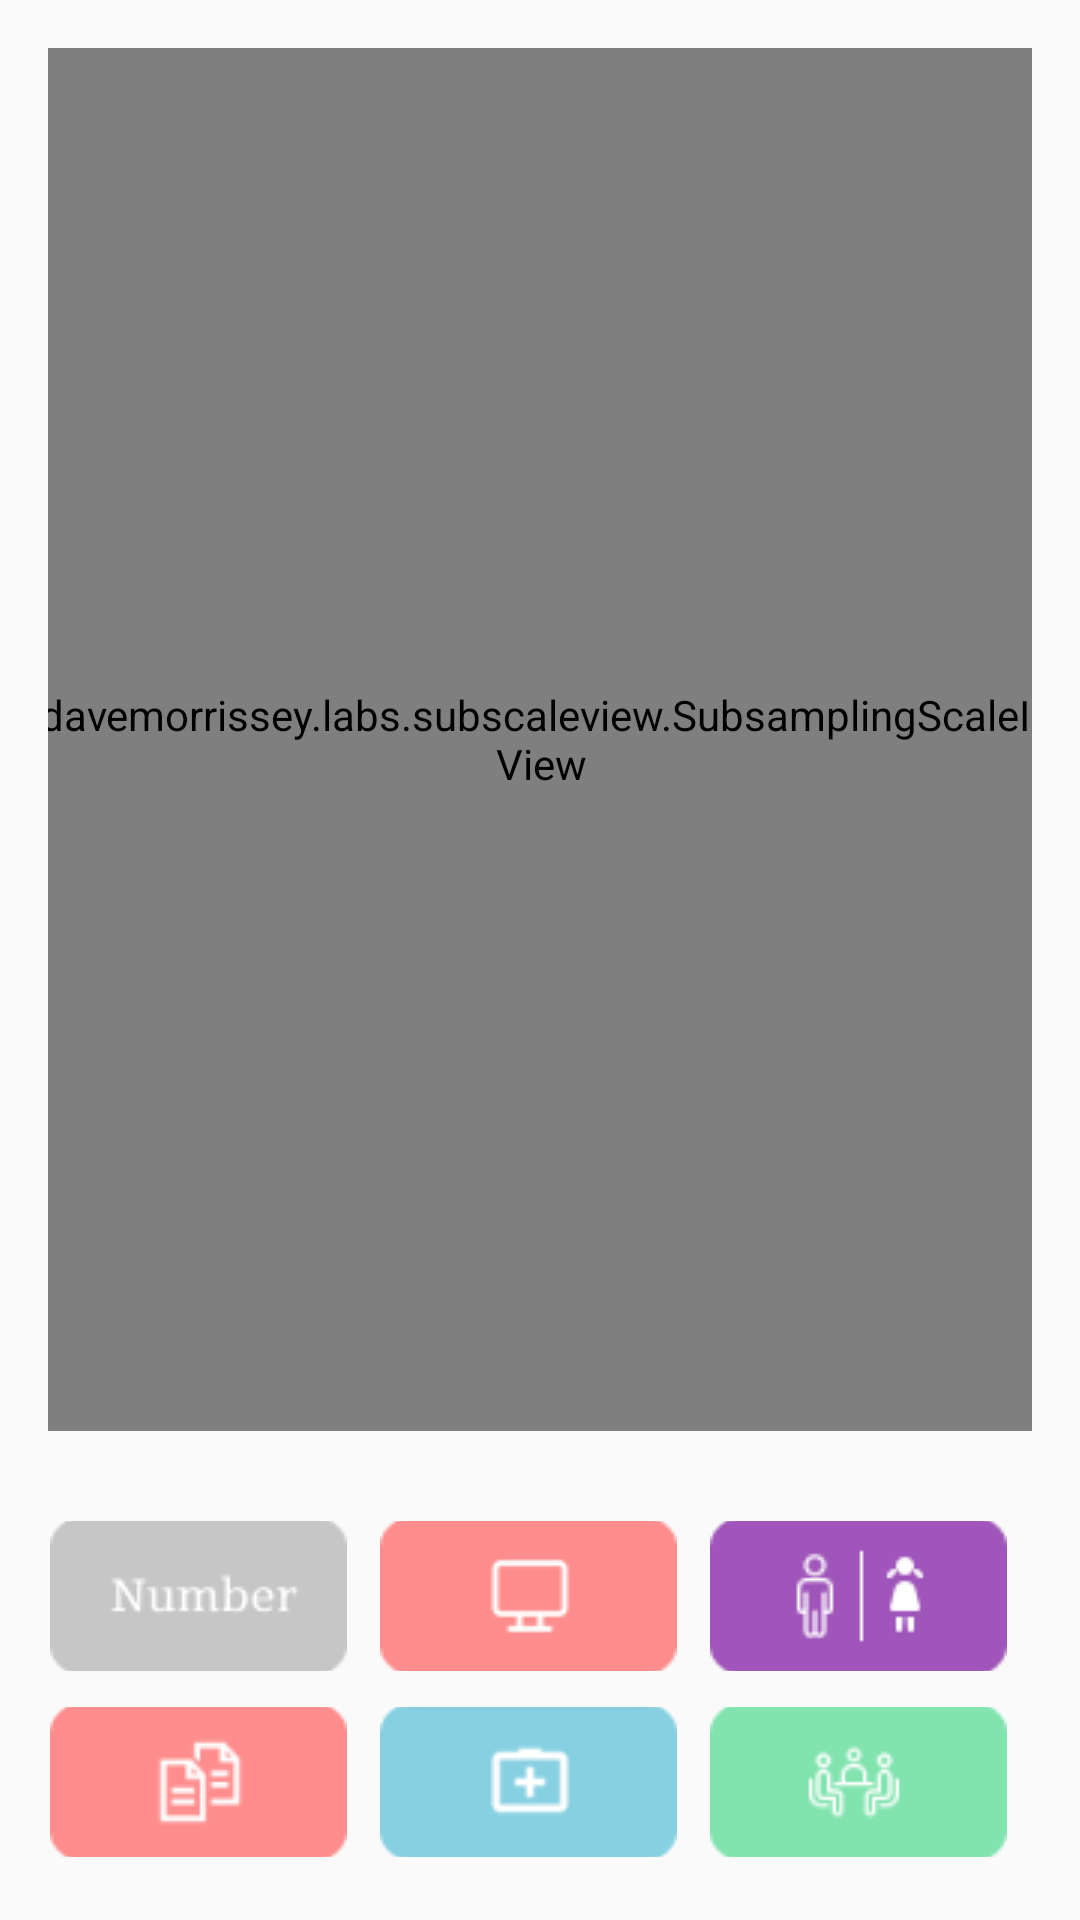

Where icons sit on this 1080 × 1920 app screen, as [x1,y1,x2,y2]:
doctor: [380,1707,677,1857]
metodical: [50,1707,347,1857]
teachers: [710,1707,1007,1857]
technical: [380,1521,677,1671]
toilet: [710,1521,1007,1671]
